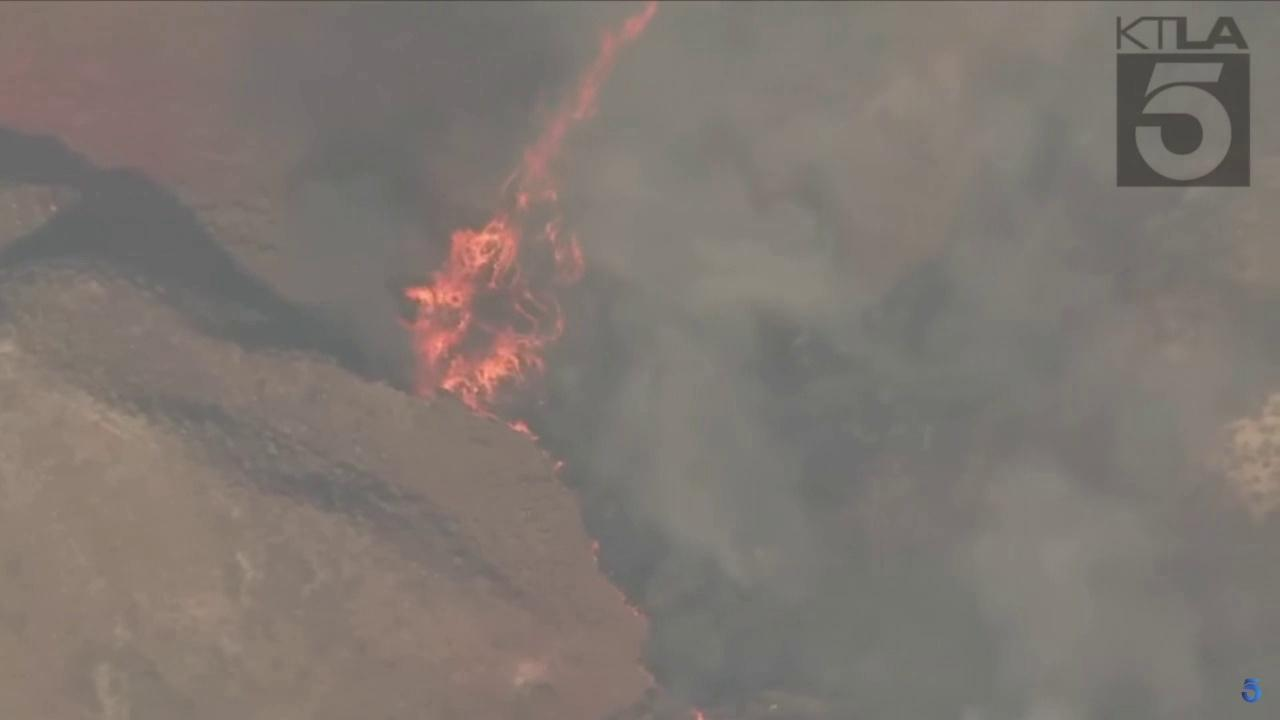fire: (389, 0, 662, 446), (692, 706, 704, 720), (552, 460, 563, 472), (591, 540, 601, 550)
smoke: (290, 0, 1280, 720)
